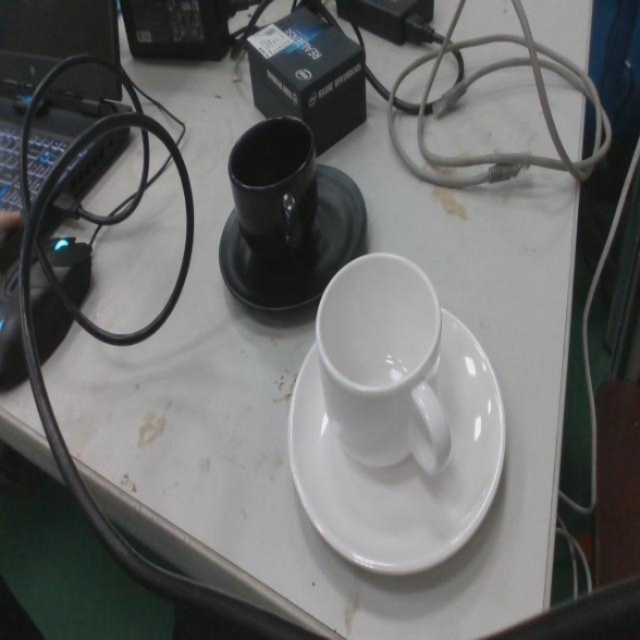black: (216, 113, 371, 323)
white: (286, 247, 510, 585)
